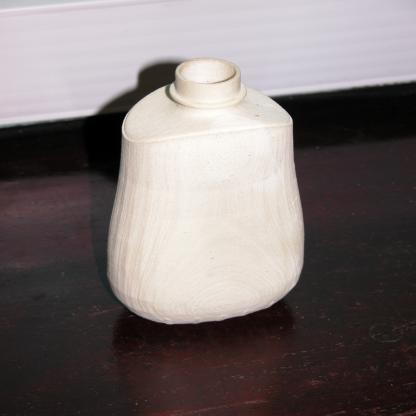vase: (104, 55, 306, 326)
